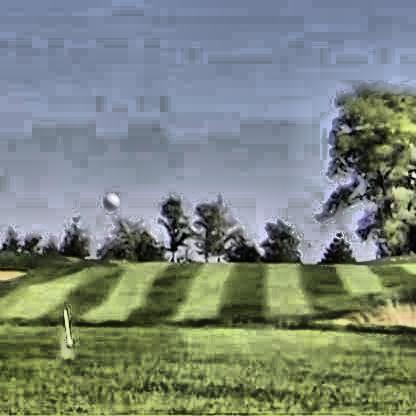golfball: (99, 188, 117, 207)
